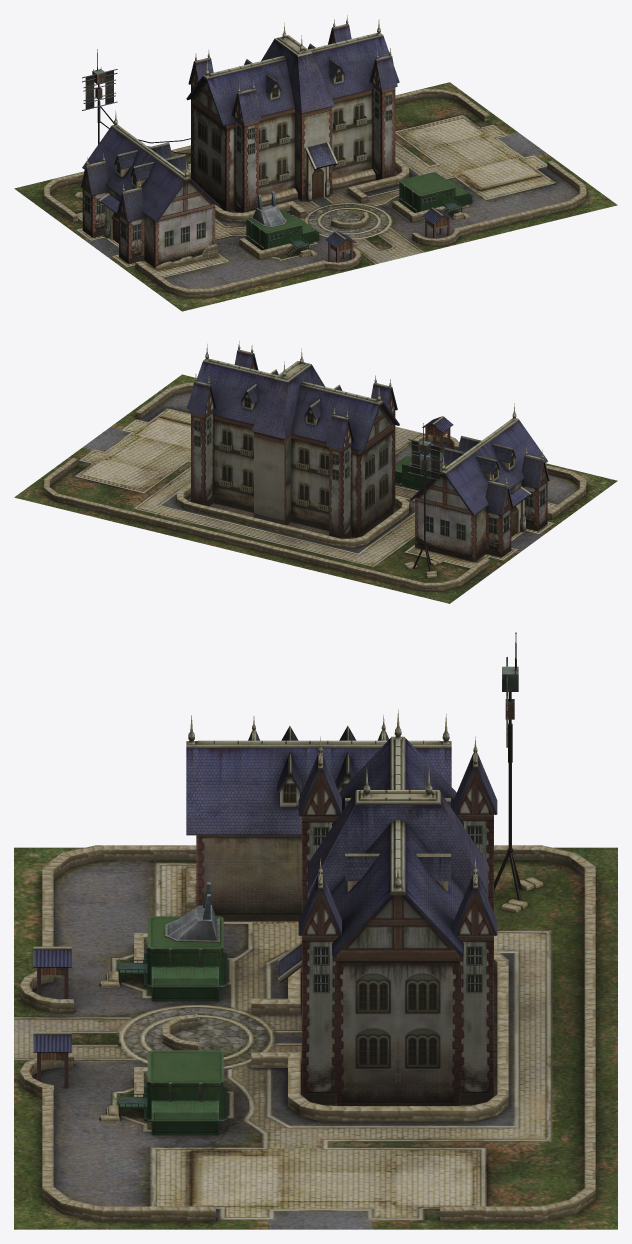
Rendered from Dhz_TechnologyCentre_02.FBX.
The picture shows the model from 3 angles, top to bottom: view 1: azimuth 30°, elevation 25°; view 2: azimuth 150°, elevation 25°; view 3: azimuth 270°, elevation 25°; orthographic projection. The views are drawn at different scales.
Parts seen in each view (by area): view 1: Dhz_TechnologyCentre_02; view 2: Dhz_TechnologyCentre_02; view 3: Dhz_TechnologyCentre_02.
Part boxes in pixels (bbox=[...]): Dhz_TechnologyCentre_02: bbox=[14, 15, 617, 311]; Dhz_TechnologyCentre_02: bbox=[14, 341, 617, 603]; Dhz_TechnologyCentre_02: bbox=[14, 632, 617, 1229].
Bounding box in the file's own units: 185 × 62.01 × 124.
